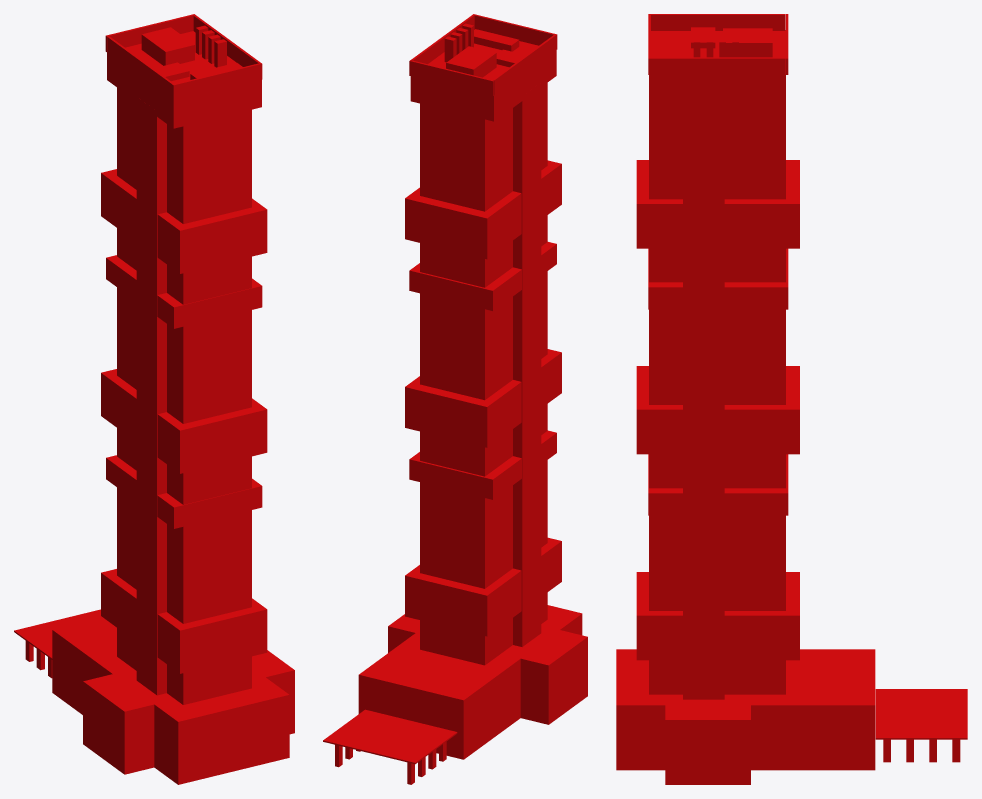
Rendered from tower05.fbx.
3 renders of one model, left to right at view 1: azimuth 30°, elevation 25°; view 2: azimuth 150°, elevation 25°; view 3: azimuth 270°, elevation 25°, orthographic. The views are drawn at different scales.
Parts seen in each view (by area): view 1: HB_invisible, HB_invisible.013, HB_invisible.019, HB_invisible.014, HB_invisible.016, HB_invisible.015, HB_invisible.020, HB_invisible.001, HB_invisible.017, HB_invisible.018, HB_invisible.004, HB_invisible.006 (+4 smaller); view 2: HB_invisible, HB_invisible.013, HB_invisible.019, HB_invisible.014, HB_invisible.016, HB_invisible.015, HB_invisible.020, HB_invisible.001, HB_invisible.021, HB_invisible.018, HB_invisible.017, HB_invisible.005 (+5 smaller); view 3: HB_invisible, HB_invisible.013, HB_invisible.019, HB_invisible.020, HB_invisible.014, HB_invisible.015, HB_invisible.016, HB_invisible.001, HB_invisible.021, HB_invisible.017, HB_invisible.018, HB_invisible.002 (+2 smaller).
Boxes of the visible parts, bbox=[...] form: HB_invisible: bbox=[117, 87, 251, 704]; HB_invisible.013: bbox=[136, 97, 166, 695]; HB_invisible.019: bbox=[52, 617, 289, 784]; HB_invisible.014: bbox=[101, 169, 267, 273]; HB_invisible.016: bbox=[101, 569, 267, 673]; HB_invisible.015: bbox=[101, 369, 267, 473]; HB_invisible.020: bbox=[83, 650, 294, 774]; HB_invisible.001: bbox=[107, 31, 261, 128]; HB_invisible.017: bbox=[106, 455, 262, 528]; HB_invisible.018: bbox=[106, 255, 262, 328]; HB_invisible.004: bbox=[172, 63, 262, 101]; HB_invisible.006: bbox=[141, 27, 194, 65]; HB_invisible: bbox=[420, 83, 547, 665]; HB_invisible.013: bbox=[513, 82, 541, 646]; HB_invisible.019: bbox=[358, 605, 582, 759]; HB_invisible.014: bbox=[405, 160, 561, 259]; HB_invisible.016: bbox=[405, 537, 561, 636]; HB_invisible.015: bbox=[405, 349, 561, 447]; HB_invisible.020: bbox=[388, 614, 587, 724]; HB_invisible.001: bbox=[410, 41, 556, 121]; HB_invisible.021: bbox=[323, 709, 457, 764]; HB_invisible.018: bbox=[409, 242, 556, 310]; HB_invisible.017: bbox=[409, 430, 556, 499]; HB_invisible.005: bbox=[409, 60, 494, 95]; HB_invisible: bbox=[649, 103, 785, 694]; HB_invisible.013: bbox=[683, 98, 724, 699]; HB_invisible.019: bbox=[616, 649, 875, 770]; HB_invisible.020: bbox=[665, 694, 750, 784]; HB_invisible.014: bbox=[636, 160, 799, 248]; HB_invisible.015: bbox=[636, 366, 799, 454]; HB_invisible.016: bbox=[636, 572, 799, 660]; HB_invisible.001: bbox=[649, 30, 785, 103]; HB_invisible.021: bbox=[875, 689, 967, 739]; HB_invisible.017: bbox=[648, 454, 788, 515]; HB_invisible.018: bbox=[648, 248, 788, 309]; HB_invisible.002: bbox=[651, 57, 785, 74].
Size of what is drawn, in the model's own units: 9.15 by 35.66 by 15.87.
